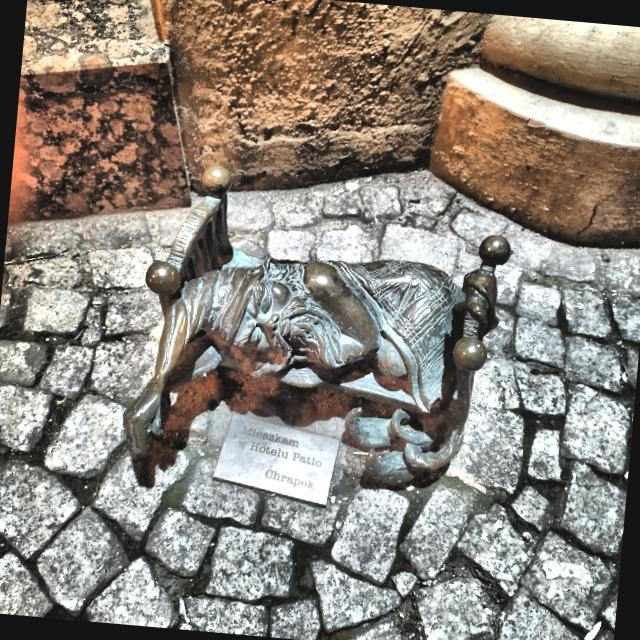Chrapek: (123, 167, 509, 482)
